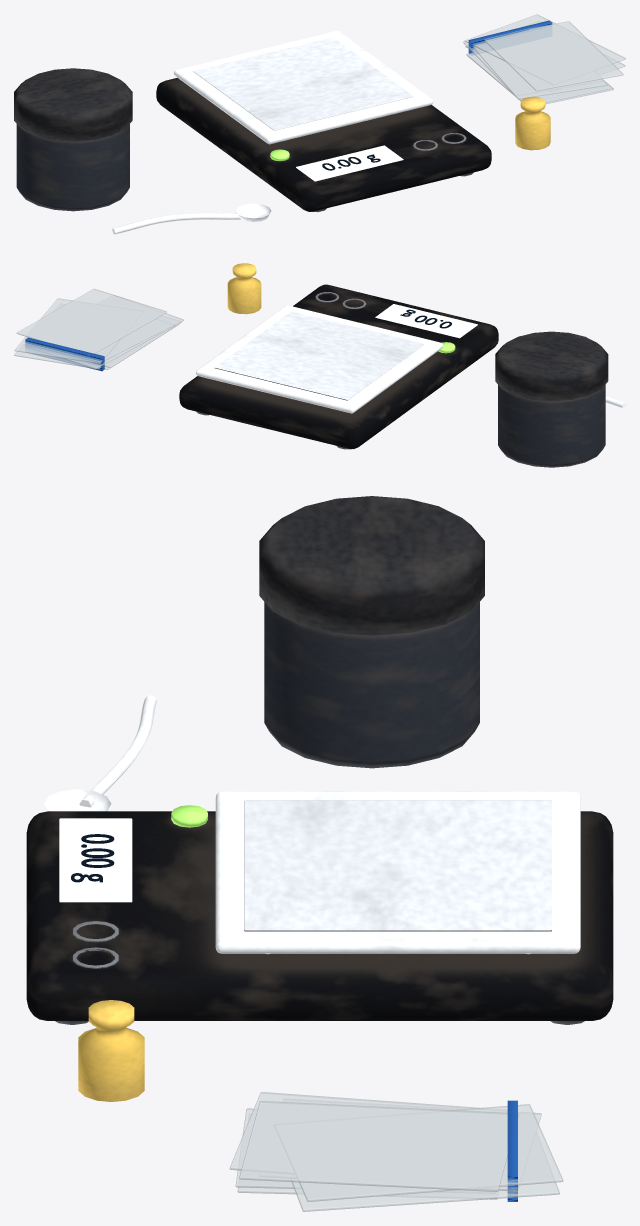
Rendered from dom_waga.glb.
3 renders of one model, top to bottom at view 1: azimuth 30°, elevation 25°; view 2: azimuth 150°, elevation 25°; view 3: azimuth 270°, elevation 25°, orthographic. The views are drawn at different scales.
Parts seen in each view (by area): view 1: Waga, Woreczki, Wyswietlacz; view 2: Waga, Woreczki, Wyswietlacz; view 3: Waga, Woreczki, Wyswietlacz.
Part boxes in pixels (x1=…): Waga: x1=14, y1=30, x2=550, y2=234; Woreczki: x1=463, y1=14, x2=625, y2=104; Wyswietlacz: x1=296, y1=145, x2=403, y2=181; Waga: x1=179, y1=263, x2=625, y2=467; Woreczki: x1=14, y1=288, x2=183, y2=371; Wyswietlacz: x1=375, y1=304, x2=477, y2=338; Waga: x1=26, y1=496, x2=613, y2=1101; Woreczki: x1=229, y1=1092, x2=563, y2=1211; Wyswietlacz: x1=59, y1=818, x2=132, y2=902.
Size of the model in its own units: 0.496 by 0.079 by 0.225.
5 materials, 1 textured.
